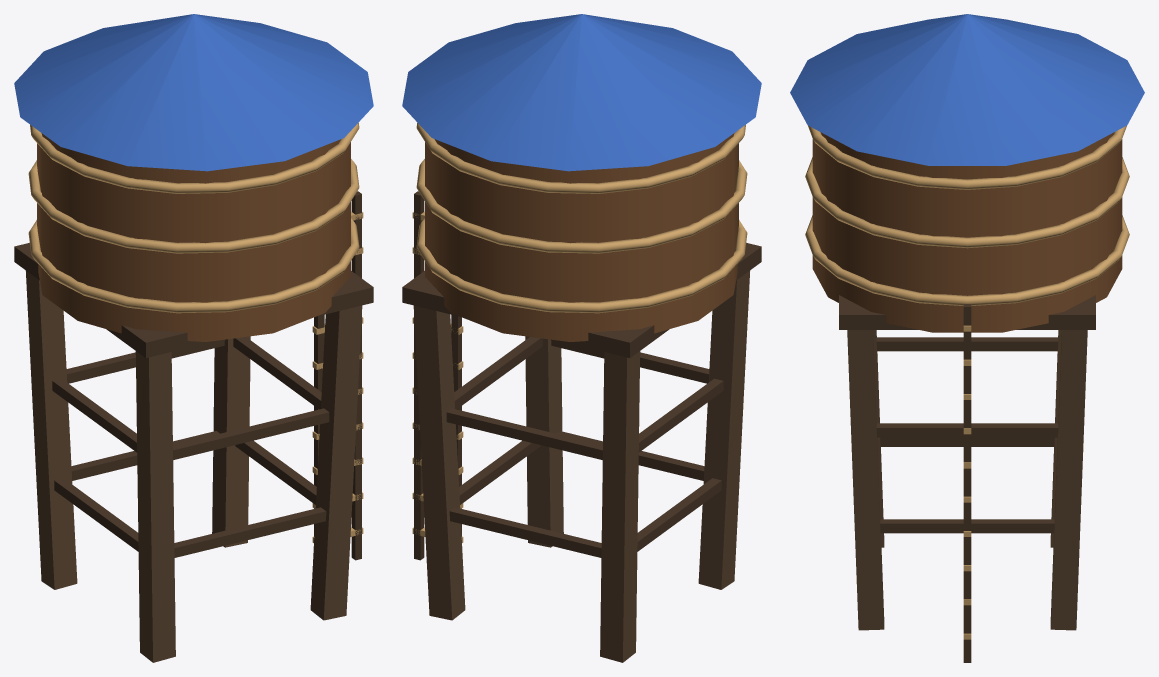
The model's file is watertower.glb.
The picture shows the model from 3 angles, left to right: view 1: azimuth 30°, elevation 25°; view 2: azimuth 150°, elevation 25°; view 3: azimuth 270°, elevation 25°; orthographic projection. The views are drawn at different scales.
Parts seen in each view (by area): view 1: watertower; view 2: watertower; view 3: watertower.
Boxes of the visible parts, left/top/right/bottom form: watertower: left=14, top=14, right=373, bottom=662; watertower: left=402, top=14, right=761, bottom=662; watertower: left=790, top=14, right=1144, bottom=662.
Bounding box in the file's own units: 4.79 × 8.33 × 4.7.
